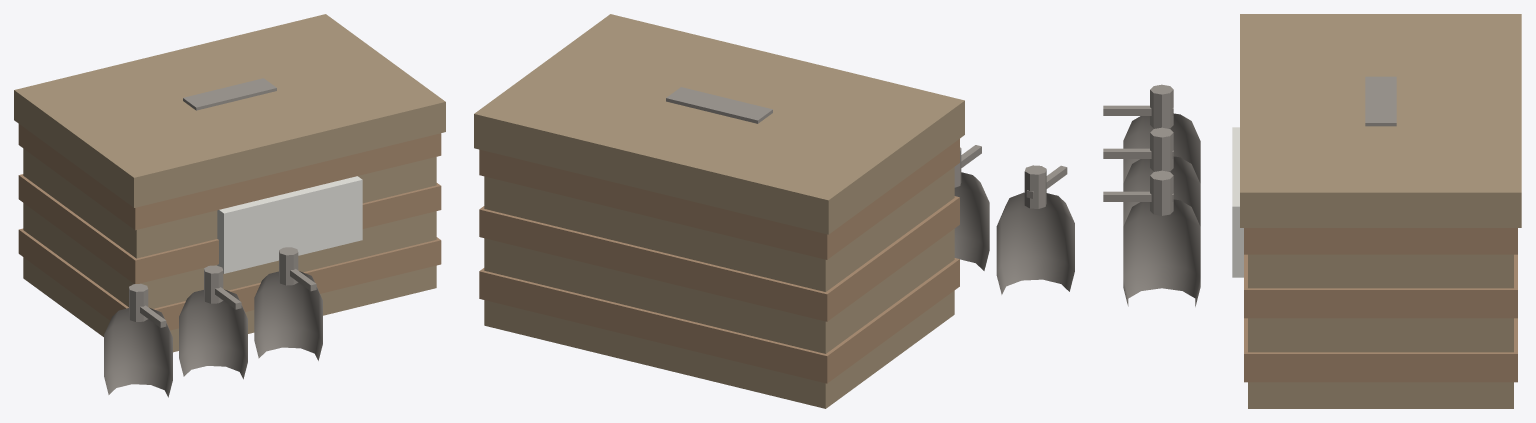
The model's file is trench-line-1917-grenade-box-ca8f681d__24100.glb.
3 views of the same model, side by side, from view 1: azimuth 30°, elevation 25°; view 2: azimuth 150°, elevation 25°; view 3: azimuth 270°, elevation 25° (orthographic). The views are drawn at different scales.
Visible parts, largest first — view 1: grenade-box; view 2: grenade-box; view 3: grenade-box.
Part boxes in pixels (x1,y1,x2,y2): grenade-box: [14, 14, 445, 397]; grenade-box: [474, 14, 1074, 408]; grenade-box: [1103, 14, 1521, 408].
Size of the model in its own units: 0.642 by 0.315 by 0.535.
